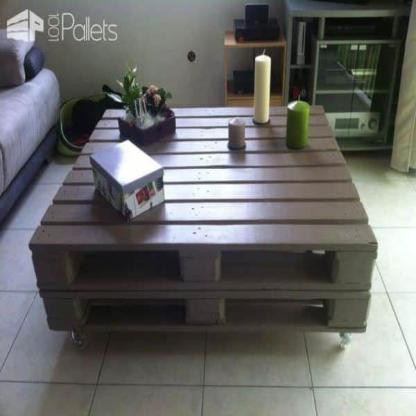BoxFace: (31, 98, 378, 292), (41, 290, 375, 338)
